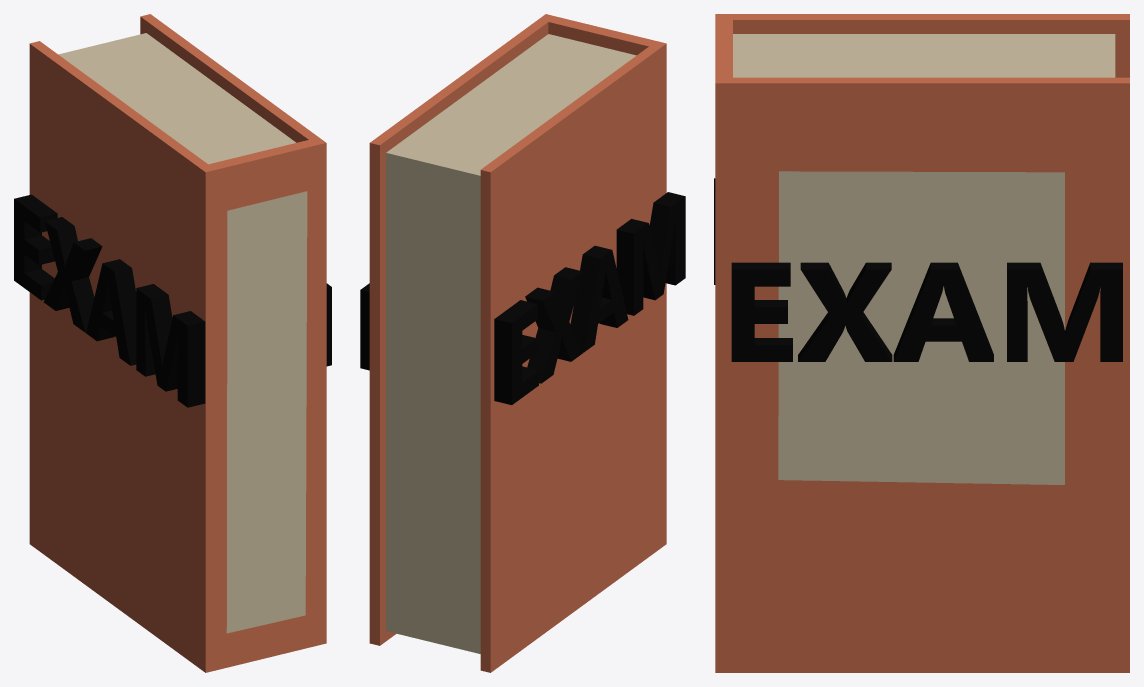
File: exam.fbx
3 views of the same model, side by side, from view 1: azimuth 30°, elevation 25°; view 2: azimuth 150°, elevation 25°; view 3: azimuth 270°, elevation 25° (orthographic). The views are drawn at different scales.
Visible parts, largest first — view 1: node_id7 (×2), node_id35, node_id45; view 2: node_id7 (×2), node_id35, node_id45; view 3: node_id7 (×2), node_id45.
Boxes of the visible parts, x1,y1,x2,y2 form: node_id7 (×2): (29, 14, 326, 672); node_id35: (14, 194, 205, 407); node_id45: (326, 283, 331, 366); node_id7 (×2): (369, 14, 666, 672); node_id35: (494, 192, 685, 404); node_id45: (360, 283, 369, 370); node_id7 (×2): (715, 14, 1129, 672); node_id45: (731, 262, 1122, 361).
Size of the model in its own units: 0.1622 by 0.512 by 0.3273.
